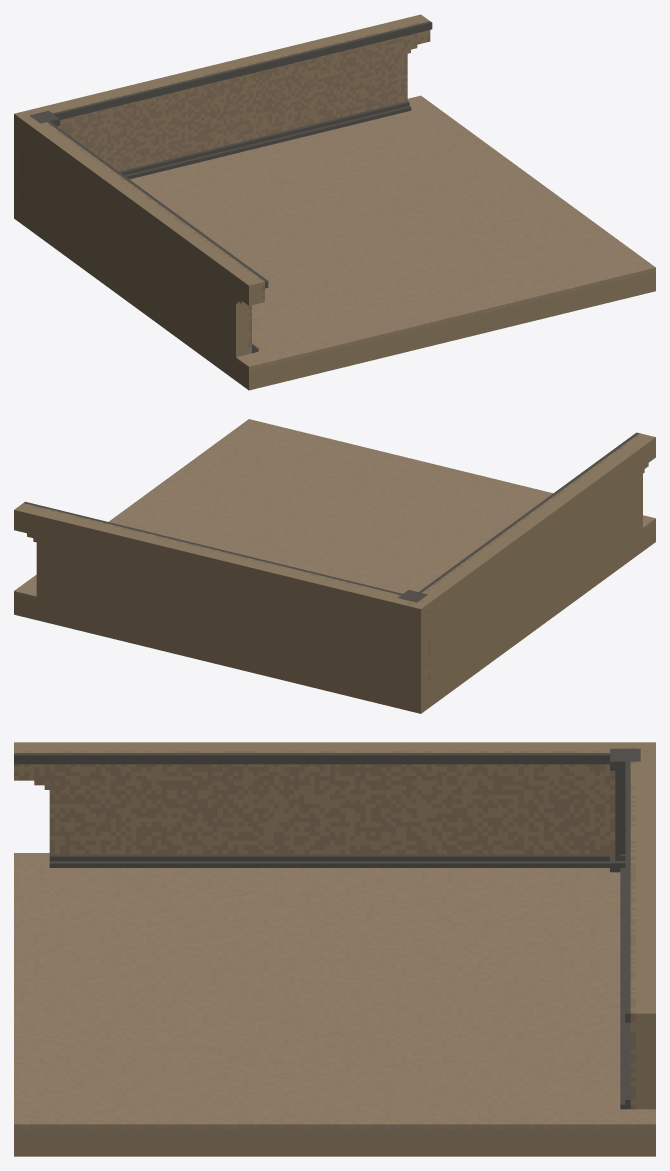
Rendered from LargeRoom2-0.obj.
3 renders of one model, top to bottom at view 1: azimuth 30°, elevation 25°; view 2: azimuth 150°, elevation 25°; view 3: azimuth 270°, elevation 25°, orthographic. The views are drawn at different scales.
Bounding box in the file's own units: 12.6 × 3.1 × 12.6.
